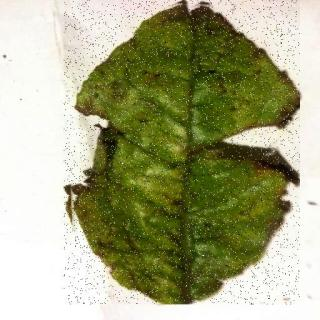Red Leaf Spot: (65, 1, 301, 305)
